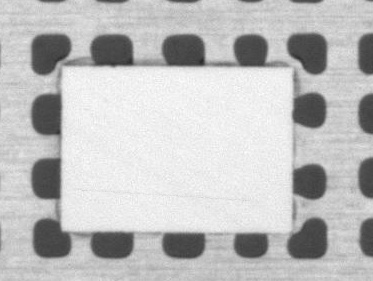DIE_CRACK: (98, 142, 331, 151)
